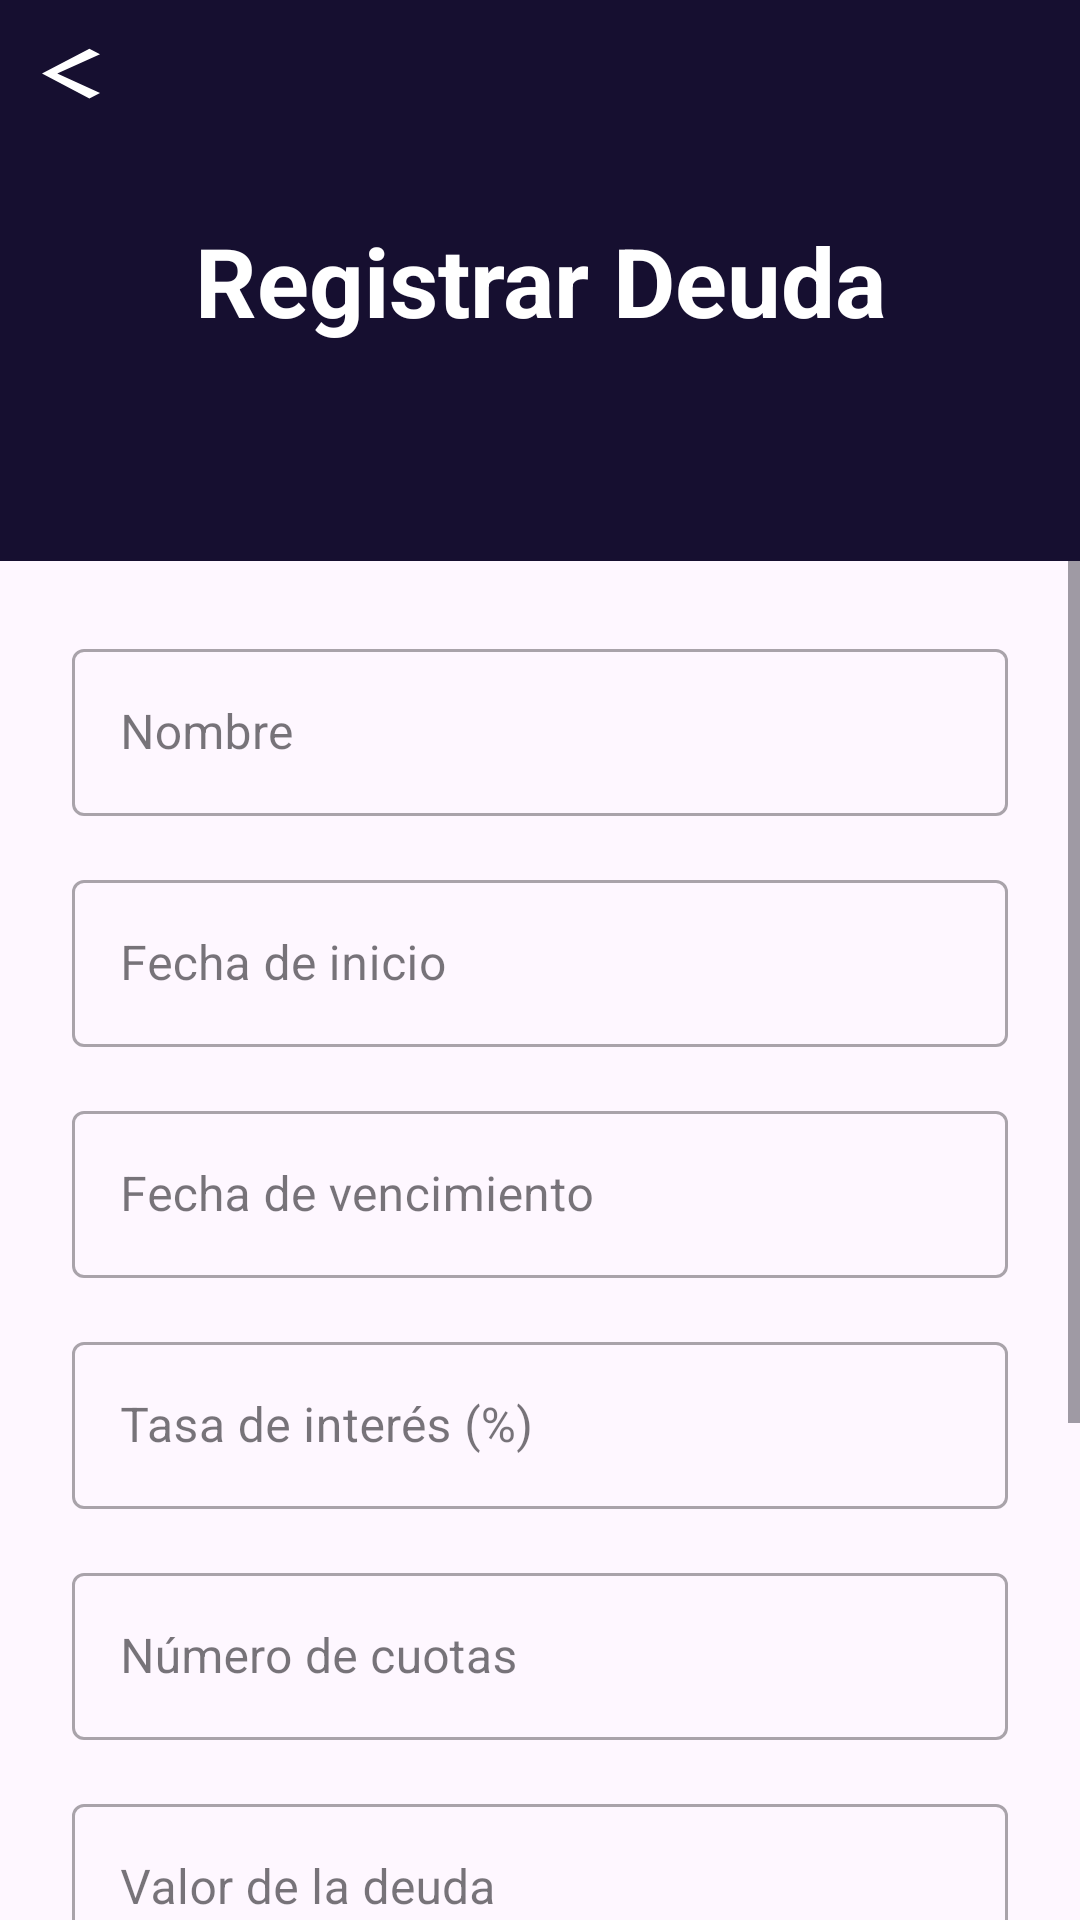

Named icons in this screenshot (1080px×1920px) and their bounding boxes, (x1, y1, x2, y2):
arrow back: (42, 48, 100, 99)
